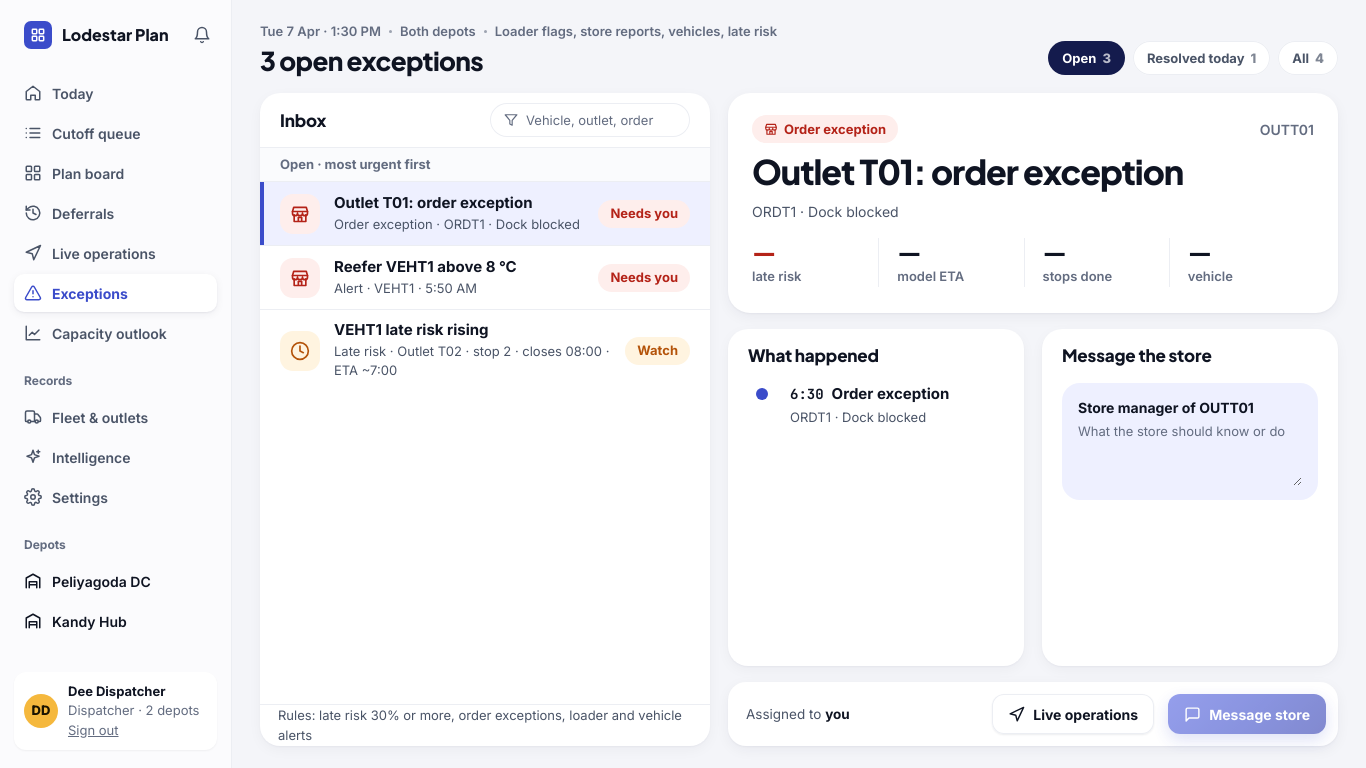
DSP-13 Exceptions inbox › messages the outlet’s store manager through Notifications/Lodestar.Send, then opens live operations
Expected: the element with test id "exception-detail" is shown, [728, 93, 1338, 313]
In the text box named "Message to the store": (1190, 454) [1078, 422, 1302, 486], type "  Driver waits at the gate  "
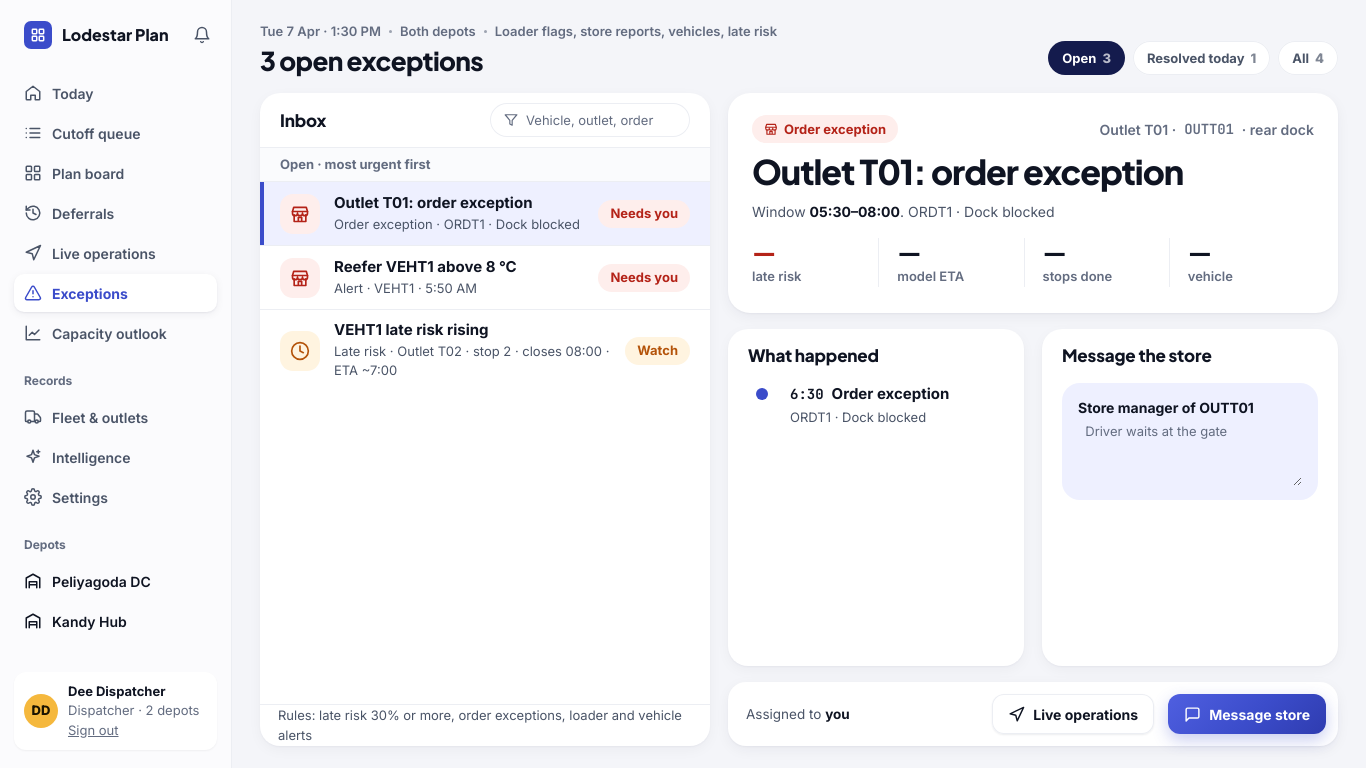
Click the button with test id "message-store": (1247, 714) [1168, 694, 1326, 734]
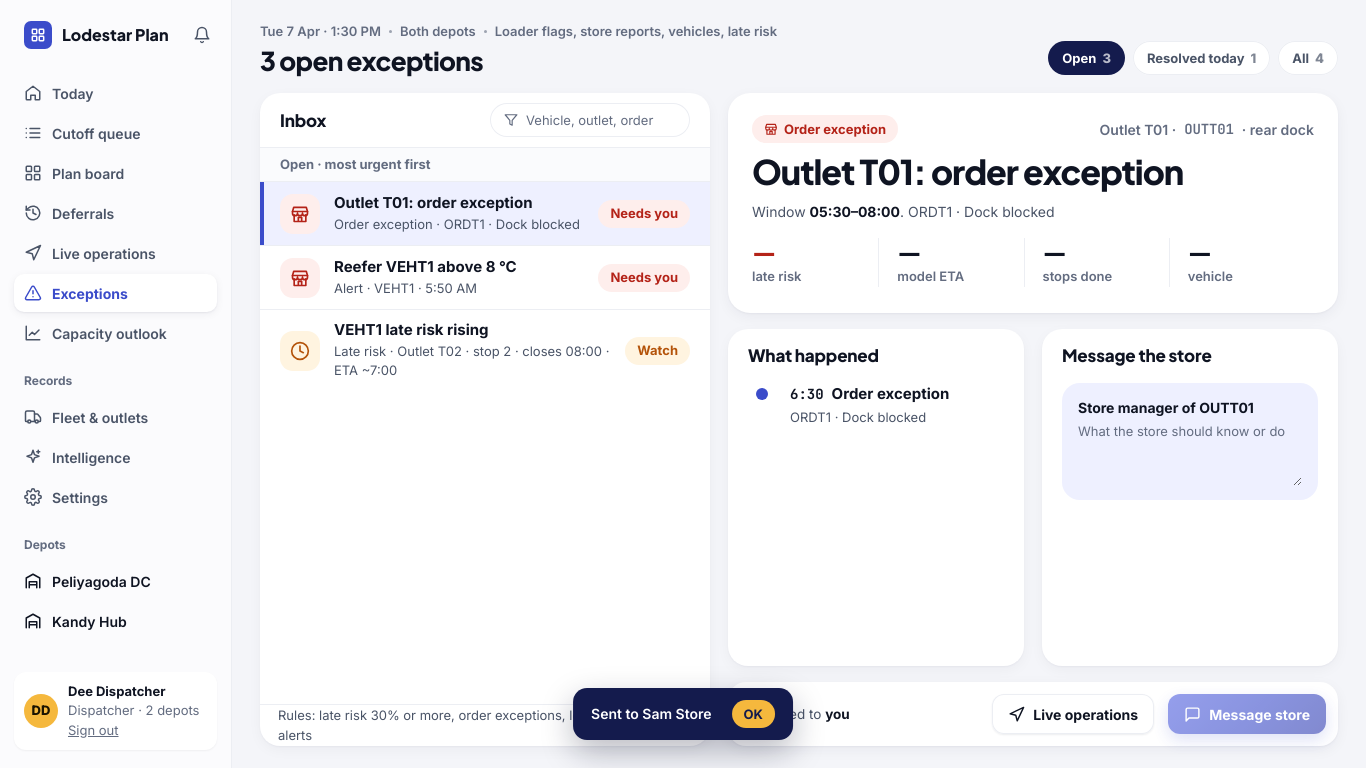
Result: the text "Sent to Sam Store" is shown at [591, 704, 712, 724]
Result: the text box named "Message to the store" is empty at [1078, 422, 1302, 486]
